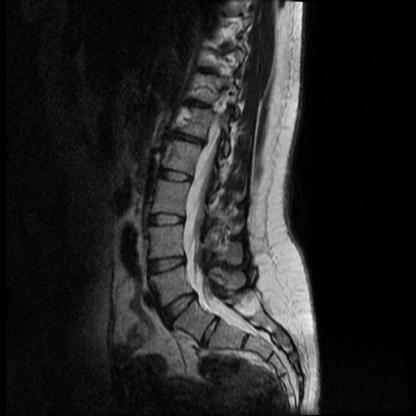Annular Disc Relaxationrotation: (164, 295, 200, 317), (195, 322, 229, 340)
Degenerative Disc Diseaserotation: (164, 295, 200, 317), (160, 167, 192, 187), (195, 322, 229, 339)
Disc Bulgerotation: (159, 168, 192, 188)
